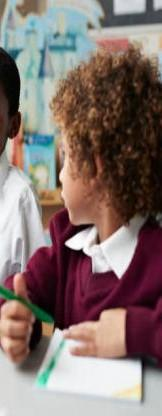cheating: (0, 28, 162, 416)
